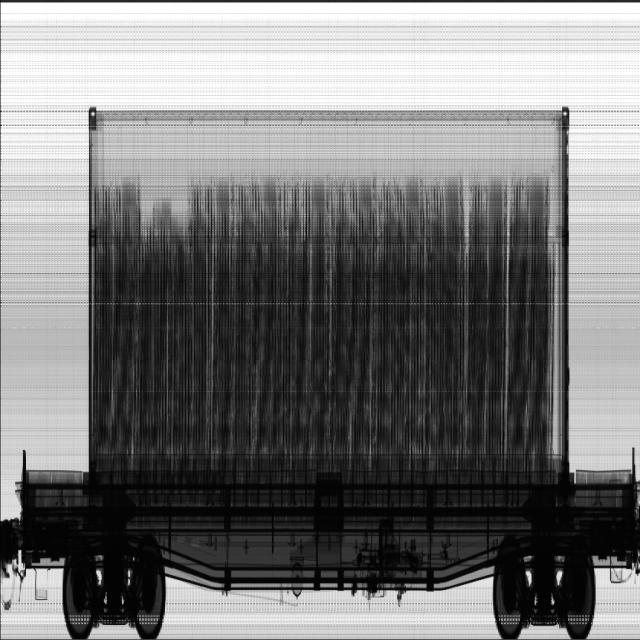auto parts: (94, 181, 194, 460)
